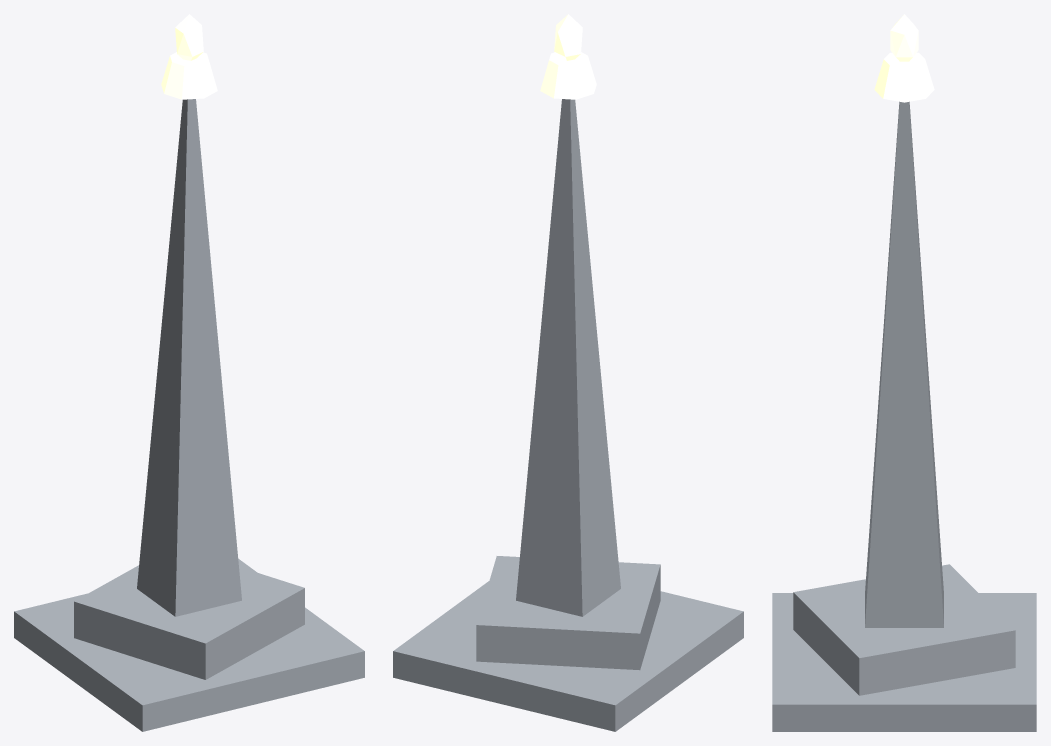
The model's file is monument.glb.
3 views of the same model, side by side, from view 1: azimuth 30°, elevation 25°; view 2: azimuth 150°, elevation 25°; view 3: azimuth 270°, elevation 25° (orthographic). The views are drawn at different scales.
Parts seen in each view (by area): view 1: monument; view 2: monument; view 3: monument.
Part boxes in pixels (bbox=[...]): monument: bbox=[14, 14, 364, 731]; monument: bbox=[393, 14, 743, 731]; monument: bbox=[772, 14, 1036, 731].
Size of the model in its own units: 14 by 38.74 by 14.
